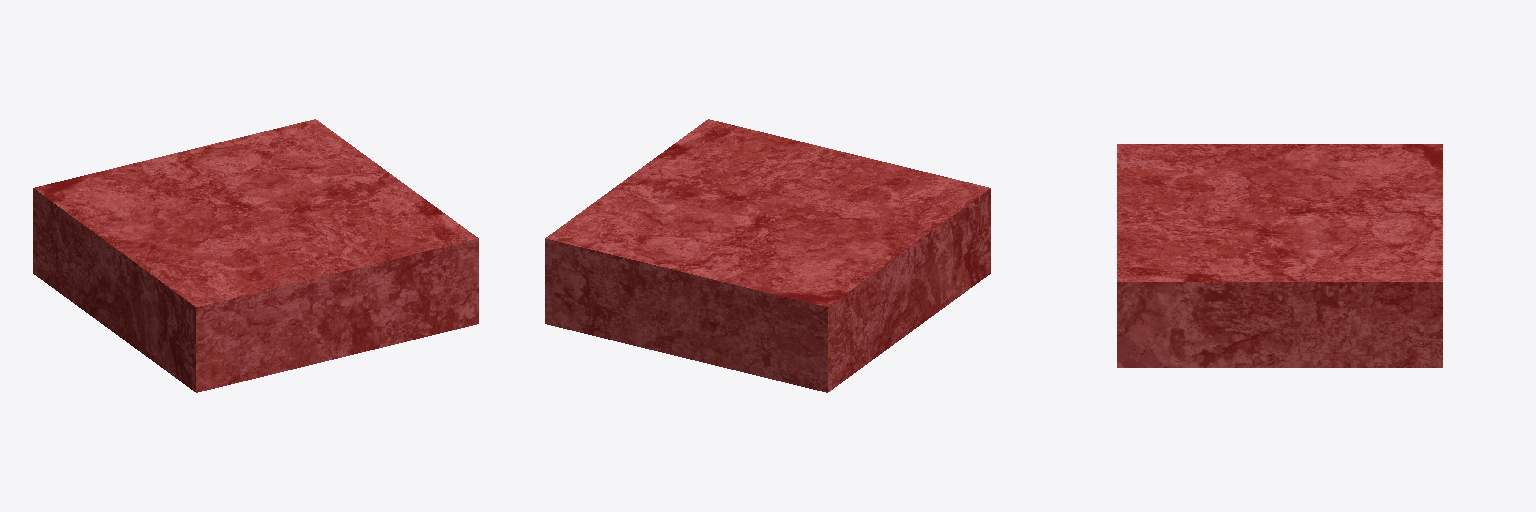
3 renders of one model, left to right at view 1: azimuth 30°, elevation 25°; view 2: azimuth 150°, elevation 25°; view 3: azimuth 270°, elevation 25°, orthographic.
Parts seen in each view (by area): view 1: Plane_Plane.004; view 2: Plane_Plane.004; view 3: Plane_Plane.004.
Part boxes in pixels (x1,y1,x2,y2): Plane_Plane.004: (33, 119, 478, 392); Plane_Plane.004: (545, 119, 990, 392); Plane_Plane.004: (1117, 144, 1442, 367).
Size of the model in its own units: 1.14 by 0.3298 by 1.14.
Materials: 1 (1 with a texture image).